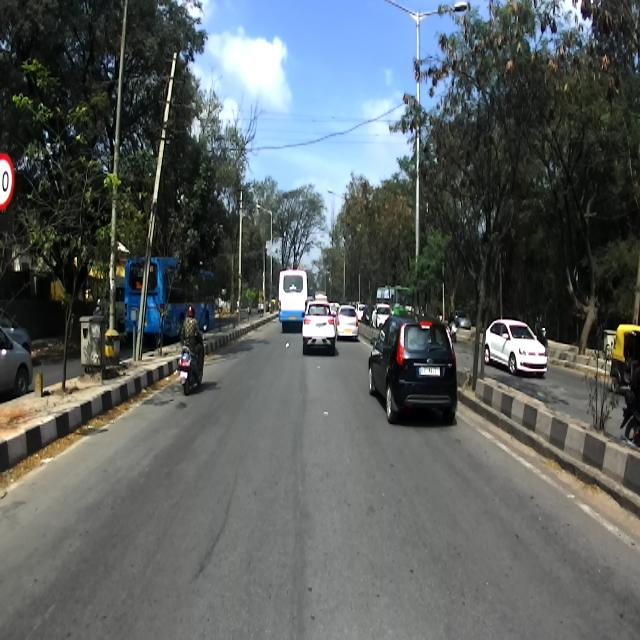car ahead at: (367, 310, 461, 448), (296, 296, 342, 356)
electric pole ahead at: (130, 39, 178, 360)
motorcycle ahead at: (176, 342, 210, 398)
